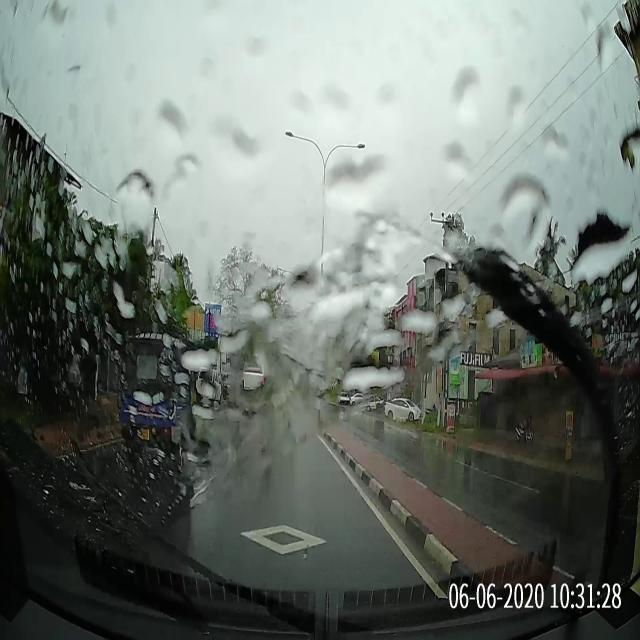diamond: (189, 506, 439, 595)
